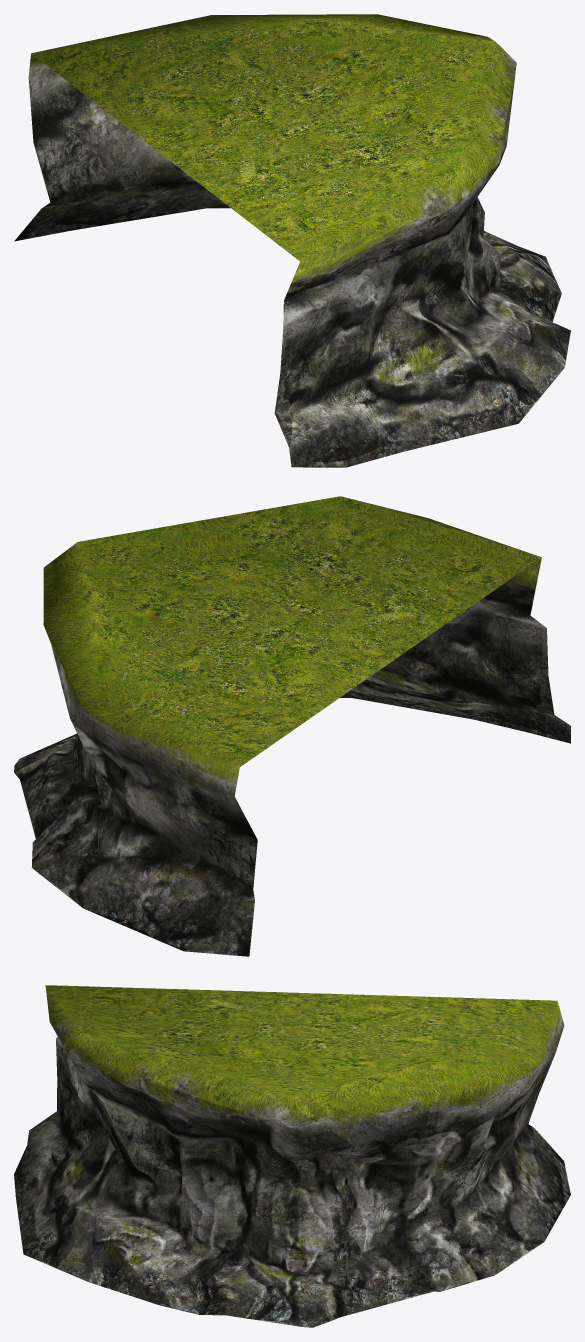
The model's file is Round green cliff.fbx.
The picture shows the model from 3 angles, top to bottom: view 1: azimuth 30°, elevation 25°; view 2: azimuth 150°, elevation 25°; view 3: azimuth 270°, elevation 25°; orthographic projection. The views are drawn at different scales.
Parts seen in each view (by area): view 1: Low Rock_Medium_Mobile_0; view 2: Low Rock_Medium_Mobile_0; view 3: Low Rock_Medium_Mobile_0.
Part boxes in pixels (box(x1,y1,x2,y2)): Low Rock_Medium_Mobile_0: box(14, 14, 570, 467); Low Rock_Medium_Mobile_0: box(14, 496, 570, 956); Low Rock_Medium_Mobile_0: box(14, 985, 570, 1327).
Bounding box in the file's own units: 579 × 328 × 769.
